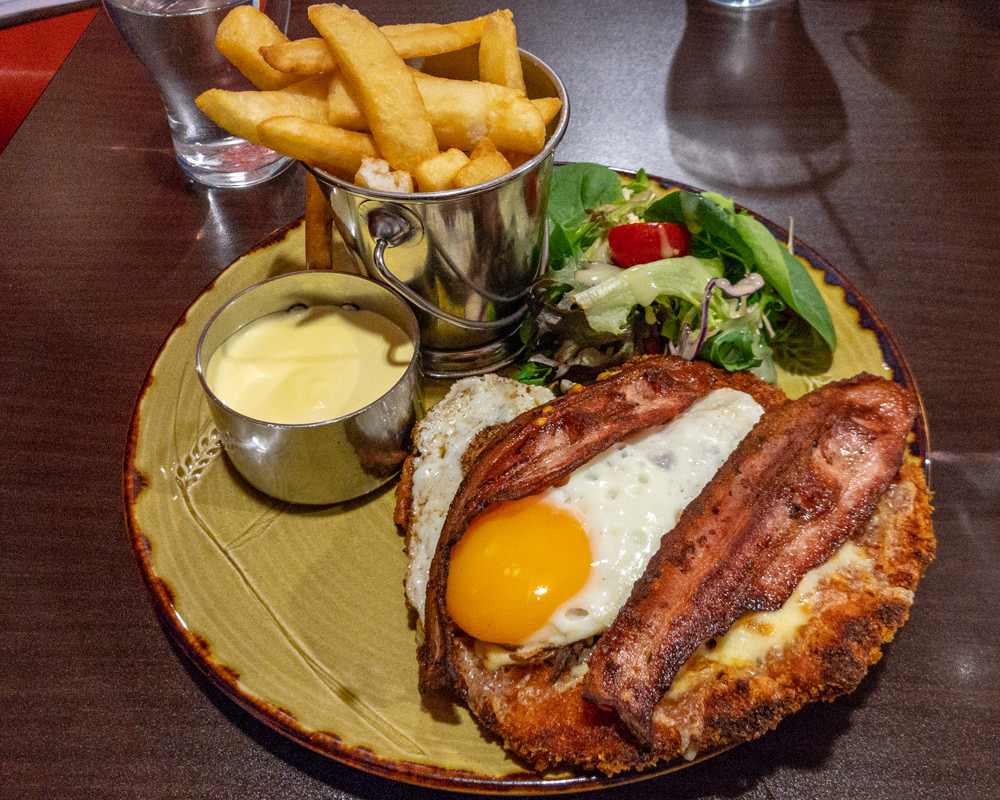chopped lettuce: (557, 162, 834, 388)
fried egg: (421, 380, 731, 635)
